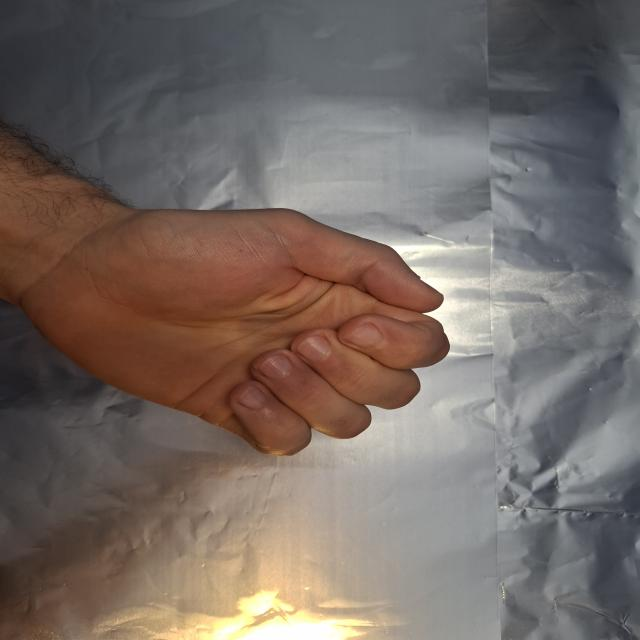glove_off: (16, 174, 453, 458)
